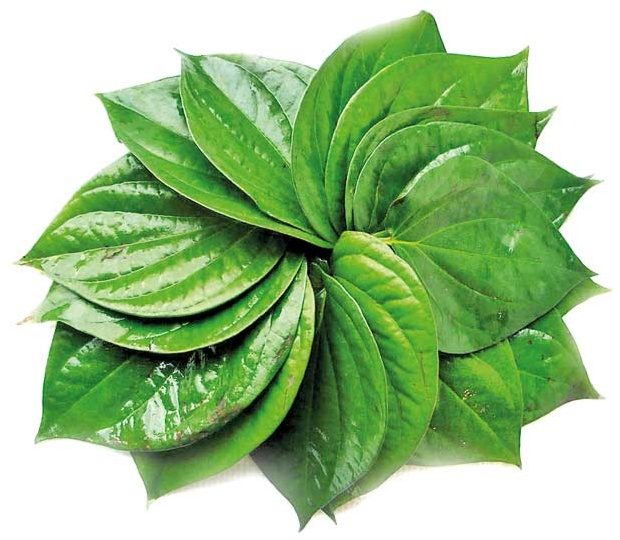bulathwita: (38, 11, 611, 529)
